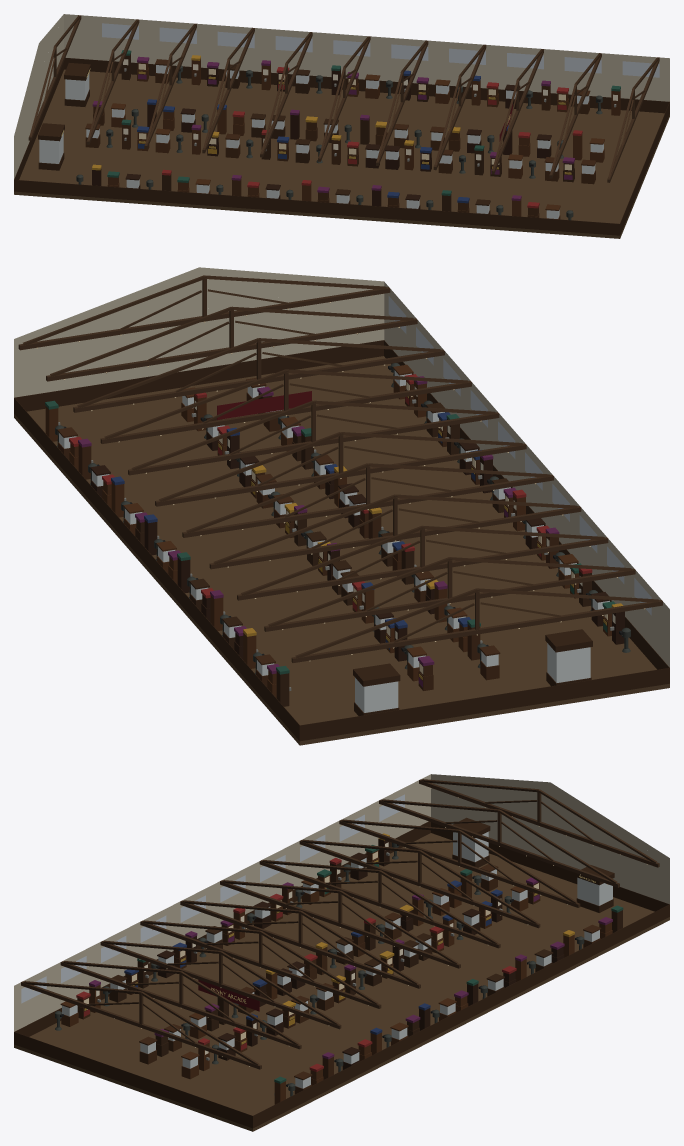
The model's file is pier45_int.glb.
3 views of the same model, one above another, from view 1: azimuth 30°, elevation 25°; view 2: azimuth 150°, elevation 25°; view 3: azimuth 270°, elevation 25° (orthographic). The views are drawn at different scales.
Visible parts, largest first — view 1: I_x_veneer, I_x_plaster, I_glassI, I_sky, I_paint, I_metal, I_screen; view 2: I_x_veneer, I_x_plaster, I_glassI, I_paint, I_sky, I_metal, I_x_velvet; view 3: I_x_veneer, I_x_plaster, I_glassI, I_paint, I_sky, I_metal, I_screen, I_x_velvet.
Part boxes in pixels (box(x1,y1,x2,y2)): I_x_veneer: box(14, 15, 669, 238); I_x_plaster: box(14, 14, 669, 178); I_glassI: box(39, 65, 603, 218); I_sky: box(102, 23, 659, 77); I_paint: box(61, 50, 620, 210); I_metal: box(76, 65, 616, 220); I_screen: box(123, 59, 617, 170); I_x_veneer: box(14, 275, 669, 745); I_x_plaster: box(14, 267, 669, 667); I_glassI: box(59, 370, 609, 712); I_paint: box(45, 365, 623, 687); I_sky: box(388, 296, 651, 615); I_metal: box(55, 363, 630, 690); I_x_velvet: box(217, 391, 311, 419); I_x_veneer: box(14, 779, 669, 1131); I_x_plaster: box(14, 774, 669, 1031); I_glassI: box(62, 831, 612, 1088); I_paint: box(60, 833, 623, 1086); I_sky: box(21, 794, 404, 1003); I_metal: box(55, 842, 584, 1096); I_screen: box(83, 842, 538, 1086); I_x_velvet: box(198, 979, 259, 1011).
Bounding box in the file's own units: 56.27 × 8.5 × 52.74.
